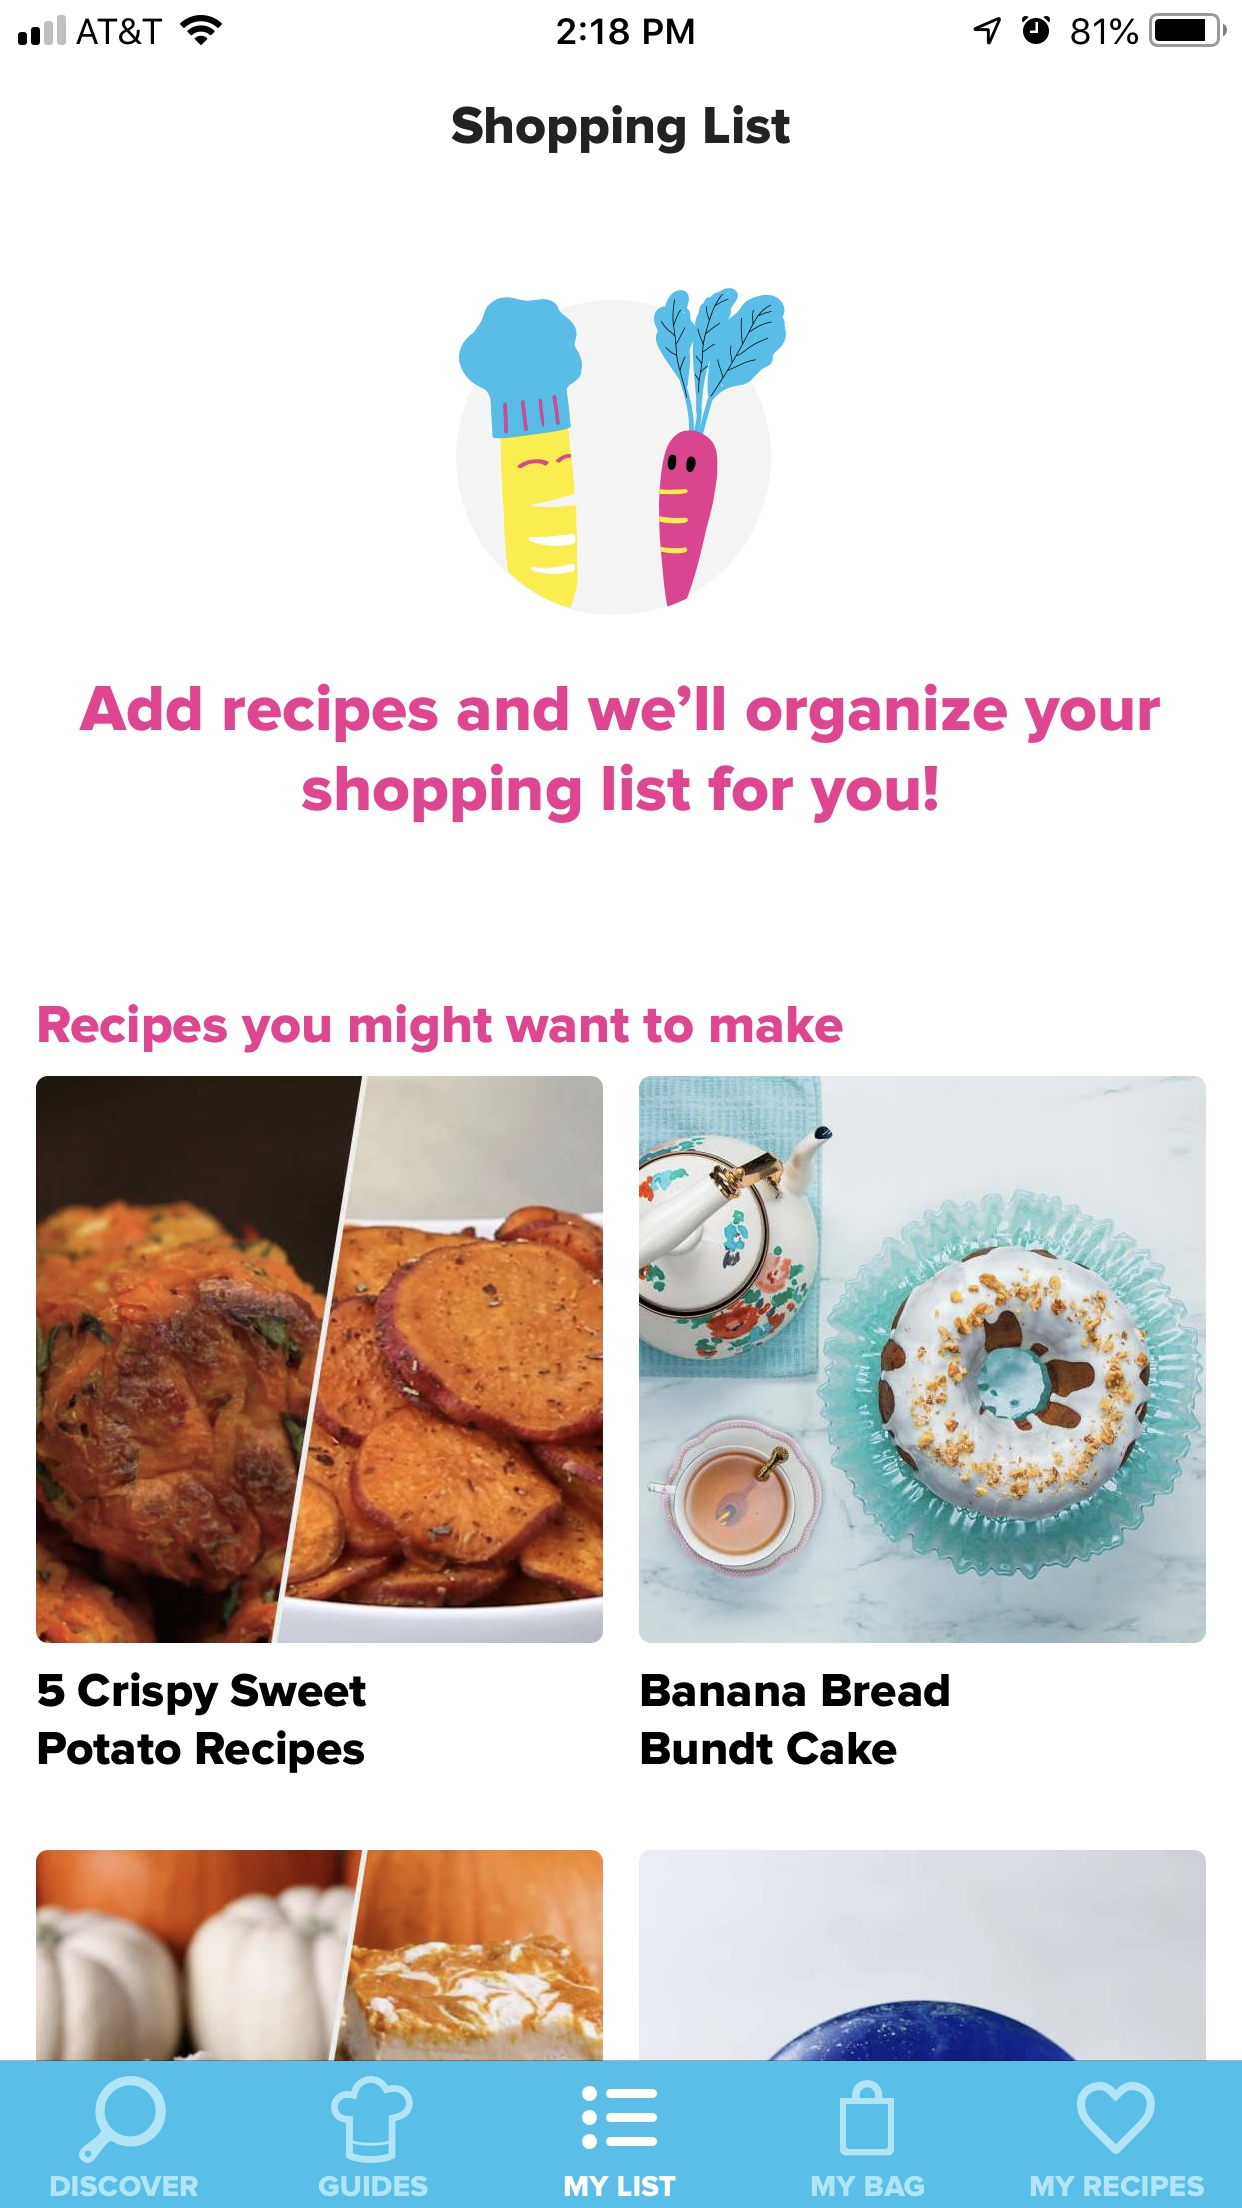Icon: (79, 2075, 168, 2164), (1077, 2081, 1156, 2155), (581, 2085, 658, 2150), (839, 2079, 895, 2156)
Image: (638, 1077, 1207, 1644), (36, 1077, 604, 1644), (638, 1849, 1207, 2059), (36, 1849, 604, 2059), (455, 288, 787, 617), (331, 2075, 416, 2164)
Text: (79, 682, 1162, 825), (39, 1004, 845, 1054), (38, 1671, 369, 1774), (641, 1673, 949, 1767), (450, 105, 792, 155), (1030, 2175, 1206, 2197), (52, 2175, 200, 2197), (811, 2175, 925, 2197), (564, 2175, 676, 2197), (318, 2175, 429, 2197)
UpperTaskBar: (2, 2, 1242, 49)
